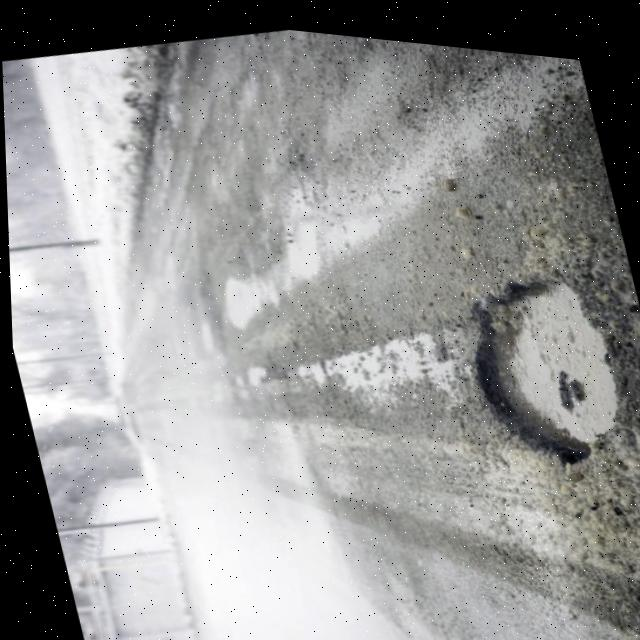Pothole: (424, 237, 640, 491)
